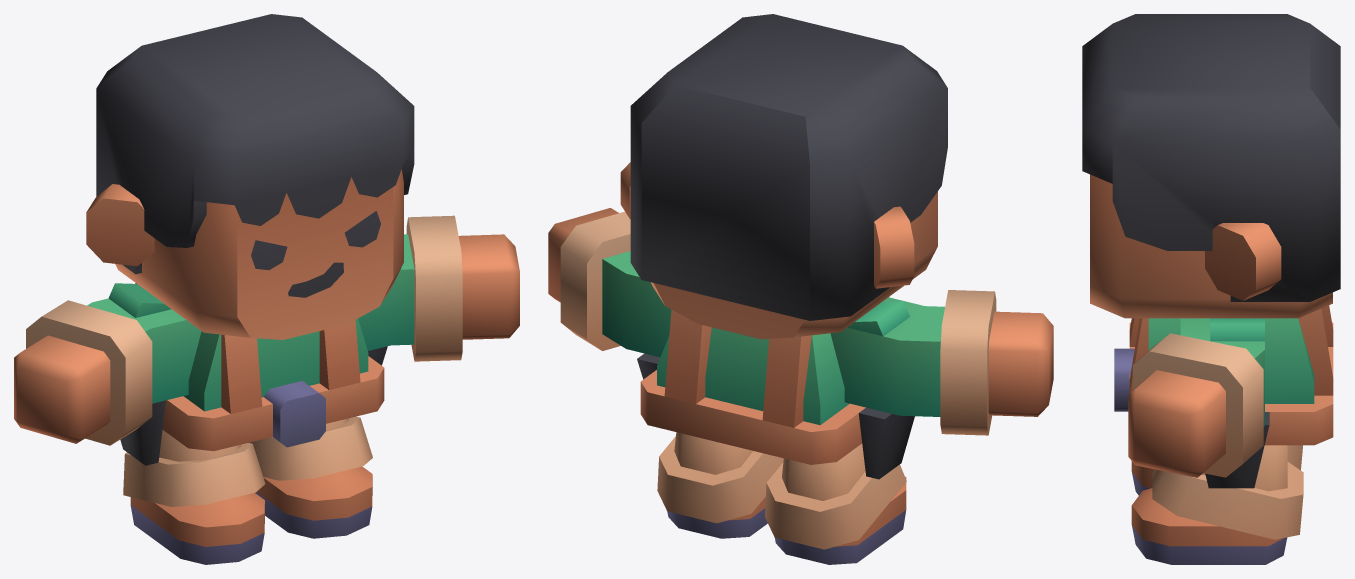
File: character-male-f.obj
3 renders of one model, left to right at view 1: azimuth 30°, elevation 25°; view 2: azimuth 150°, elevation 25°; view 3: azimuth 270°, elevation 25°, orthographic.
Visible parts, largest first — view 1: head-mesh, body-mesh; view 2: head-mesh, body-mesh; view 3: head-mesh, body-mesh.
Boxes of the visible parts, bbox=[...] form: head-mesh: bbox=[86, 14, 414, 339]; body-mesh: bbox=[14, 215, 519, 564]; head-mesh: bbox=[620, 14, 947, 339]; body-mesh: bbox=[548, 208, 1053, 564]; head-mesh: bbox=[1082, 14, 1340, 318]; body-mesh: bbox=[1114, 305, 1333, 564].
Size of the model in its own units: 0.7672 by 0.6713 by 0.34.
1 material, 1 textured.
